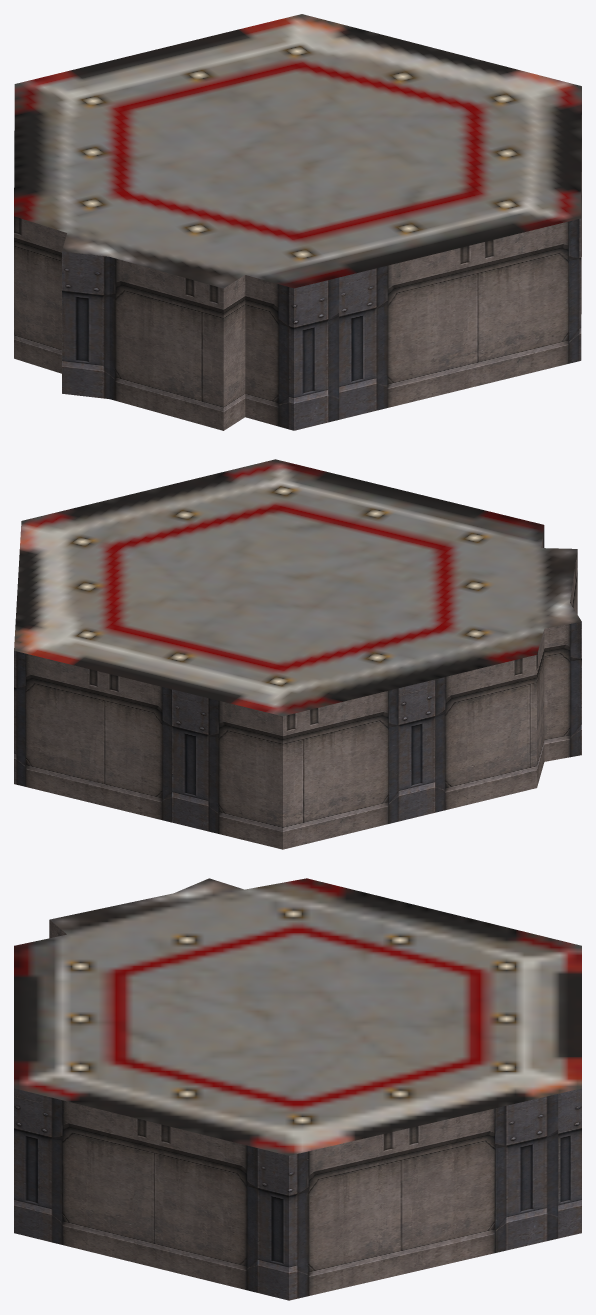
The model's file is bsealed_medium_16.glb.
3 views of the same model, one above another, from view 1: azimuth 30°, elevation 25°; view 2: azimuth 150°, elevation 25°; view 3: azimuth 270°, elevation 25° (orthographic). The views are drawn at different scales.
Visible parts, largest first — view 1: buildings/saxarba/bsealed_medium/bsealed_medium_16; view 2: buildings/saxarba/bsealed_medium/bsealed_medium_16; view 3: buildings/saxarba/bsealed_medium/bsealed_medium_16.
Boxes of the visible parts, x1,y1,x2,y2 form: buildings/saxarba/bsealed_medium/bsealed_medium_16: (14, 14, 581, 430); buildings/saxarba/bsealed_medium/bsealed_medium_16: (14, 459, 581, 849); buildings/saxarba/bsealed_medium/bsealed_medium_16: (14, 878, 581, 1300).
Size of the model in its own units: 74 by 18 by 64.
